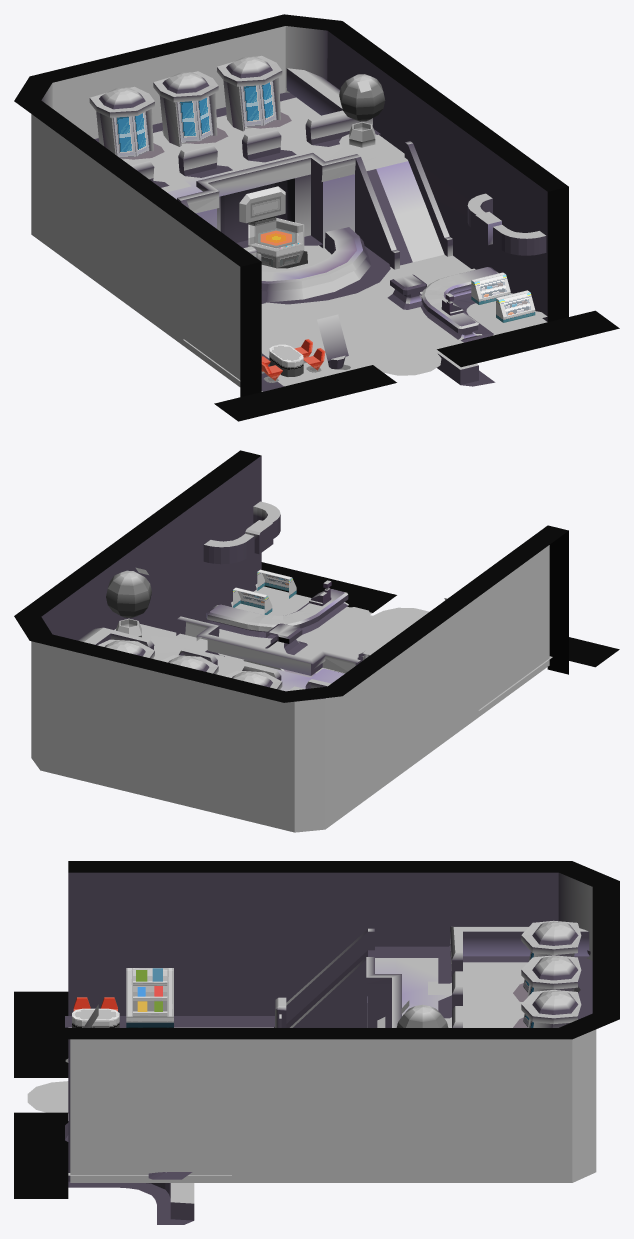
File: pokemon_center.obj
3 renders of one model, top to bottom at view 1: azimuth 30°, elevation 25°; view 2: azimuth 150°, elevation 25°; view 3: azimuth 270°, elevation 25°, orthographic. The views are drawn at different scales.
Size of the model in its own units: 374 by 167 by 463.
